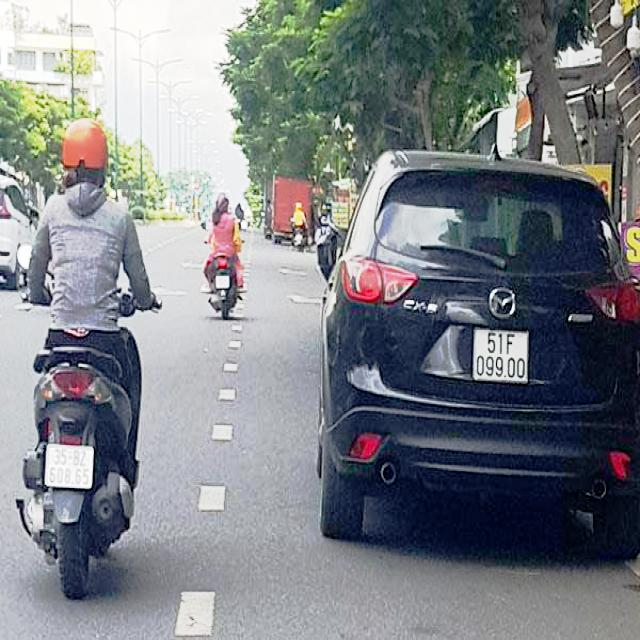license_plate: (474, 328, 529, 382), (45, 443, 95, 490)
